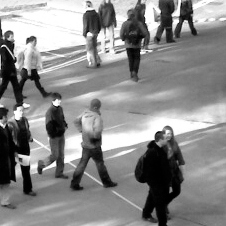person: (70, 98, 118, 194), (38, 94, 70, 181), (9, 104, 38, 197), (145, 131, 172, 226), (19, 35, 53, 100), (161, 123, 184, 218), (120, 8, 147, 81), (1, 29, 27, 100), (1, 107, 15, 209), (98, 1, 119, 57), (82, 1, 99, 70), (153, 1, 177, 44), (133, 1, 154, 49), (174, 1, 199, 37)
